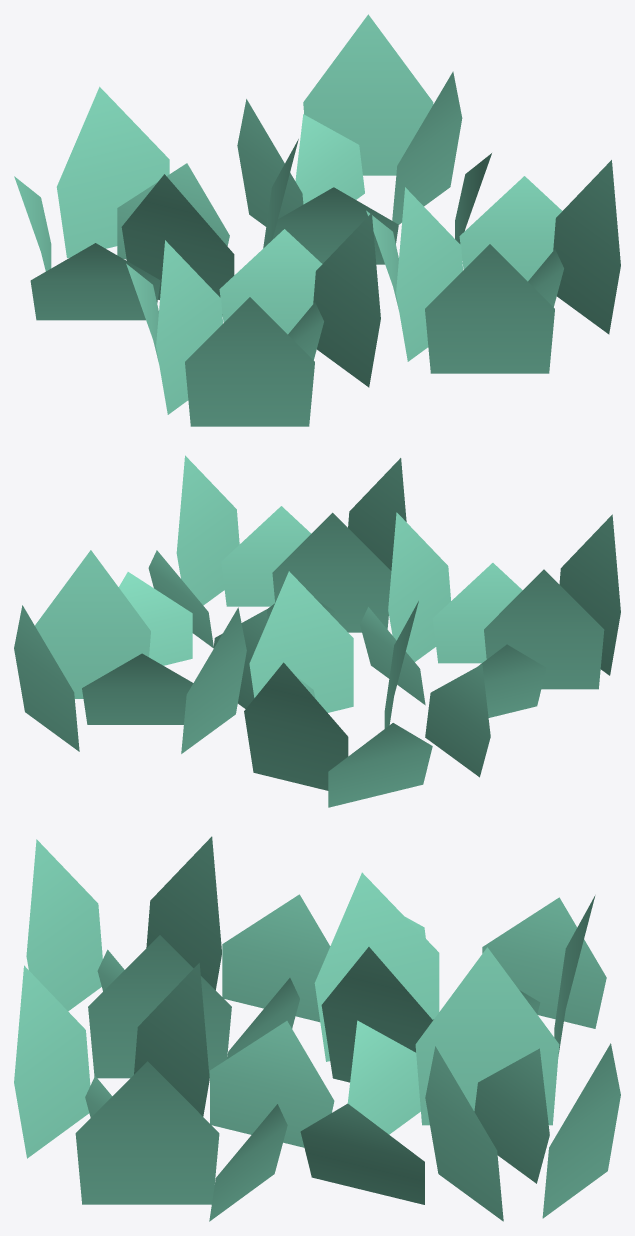
Rendered from grass.fbx.
3 views of the same model, one above another, from view 1: azimuth 30°, elevation 25°; view 2: azimuth 150°, elevation 25°; view 3: azimuth 270°, elevation 25° (orthographic). The views are drawn at different scales.
Parts seen in each view (by area): view 1: grassLarge; view 2: grassLarge; view 3: grassLarge.
Boxes of the visible parts, <box> form: grassLarge: <box>14,14,620,426</box>; grassLarge: <box>14,455,620,807</box>; grassLarge: <box>14,836,620,1221</box>.
Bounding box in the file's own units: 47.59 × 14.25 × 48.73.
